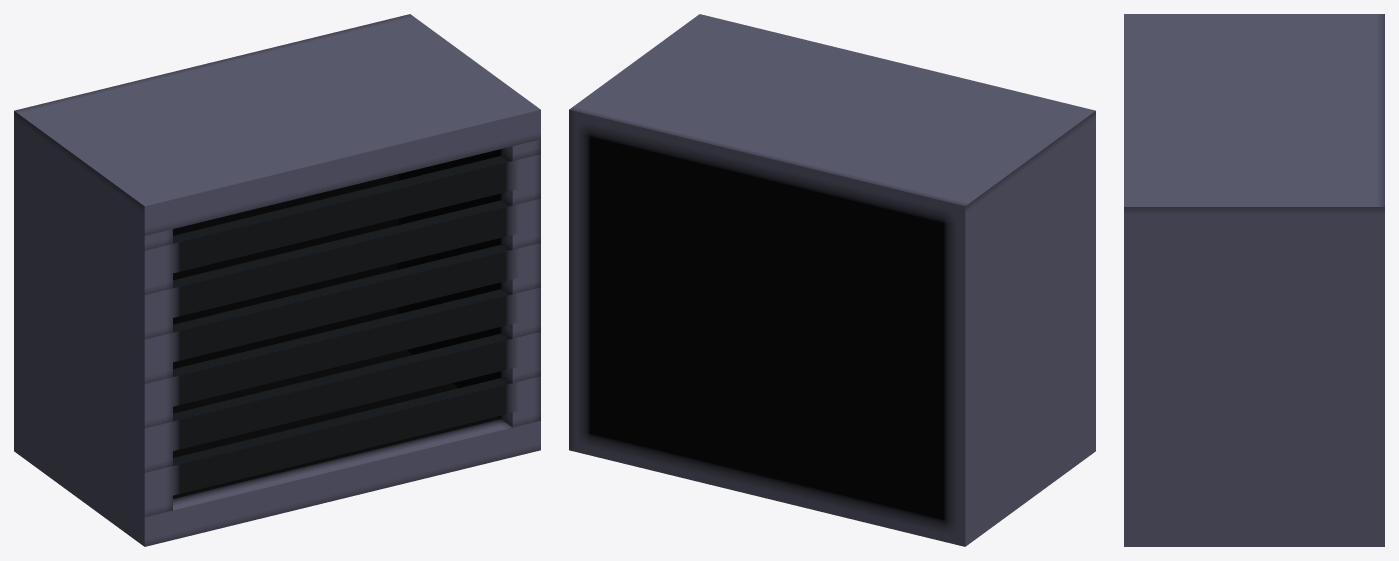
The model's file is wentylacja_01.dae.
3 views of the same model, side by side, from view 1: azimuth 30°, elevation 25°; view 2: azimuth 150°, elevation 25°; view 3: azimuth 270°, elevation 25° (orthographic).
Visible parts, largest first — view 1: Content; view 2: Content; view 3: Content.
Boxes of the visible parts, box(x1,y1,x2,y2) form: Content: box(14, 14, 540, 546); Content: box(569, 14, 1095, 546); Content: box(1124, 14, 1384, 546).
Bounding box in the file's own units: 28 × 23 × 16.
Materials: 1 (1 with a texture image).
